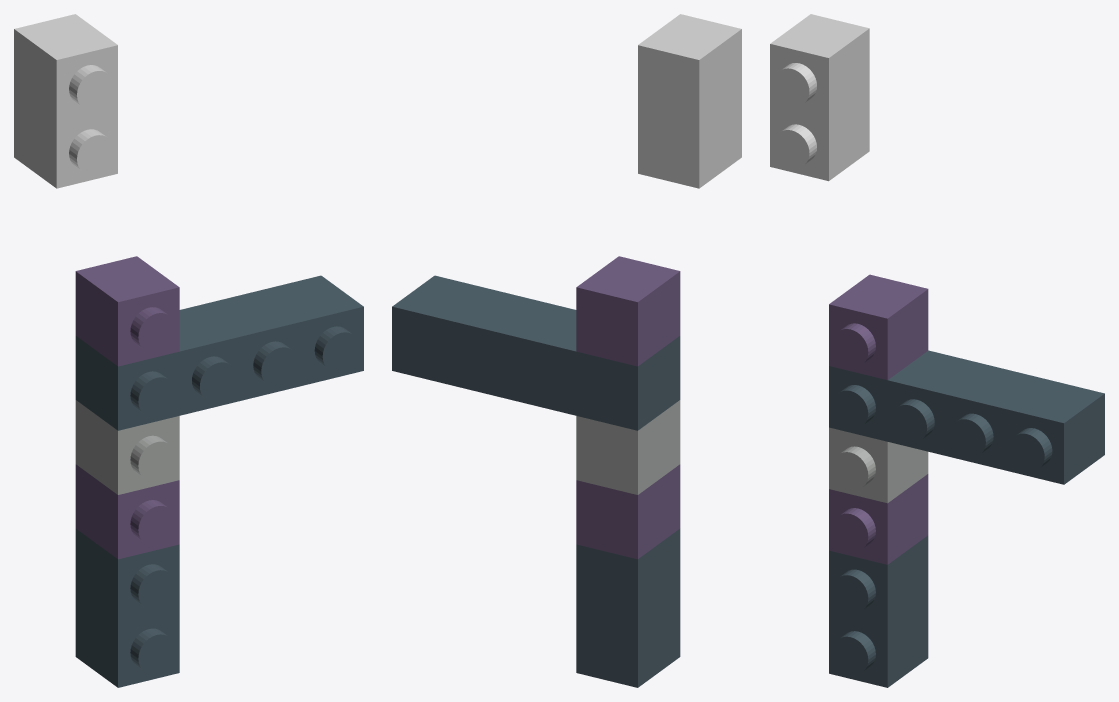
The model's file is current.glb.
3 renders of one model, left to right at view 1: azimuth 30°, elevation 25°; view 2: azimuth 150°, elevation 25°; view 3: azimuth 330°, elevation 25°, orthographic. The views are drawn at different scales.
Parts seen in each view (by area): view 1: world; view 2: world; view 3: world.
Boxes of the visible parts, x1=… form: world: x1=14, y1=14, x2=363, y2=687; world: x1=392, y1=14, x2=741, y2=687; world: x1=770, y1=14, x2=1104, y2=687.
Bounding box in the file's own units: 40 × 80 × 11.4.
